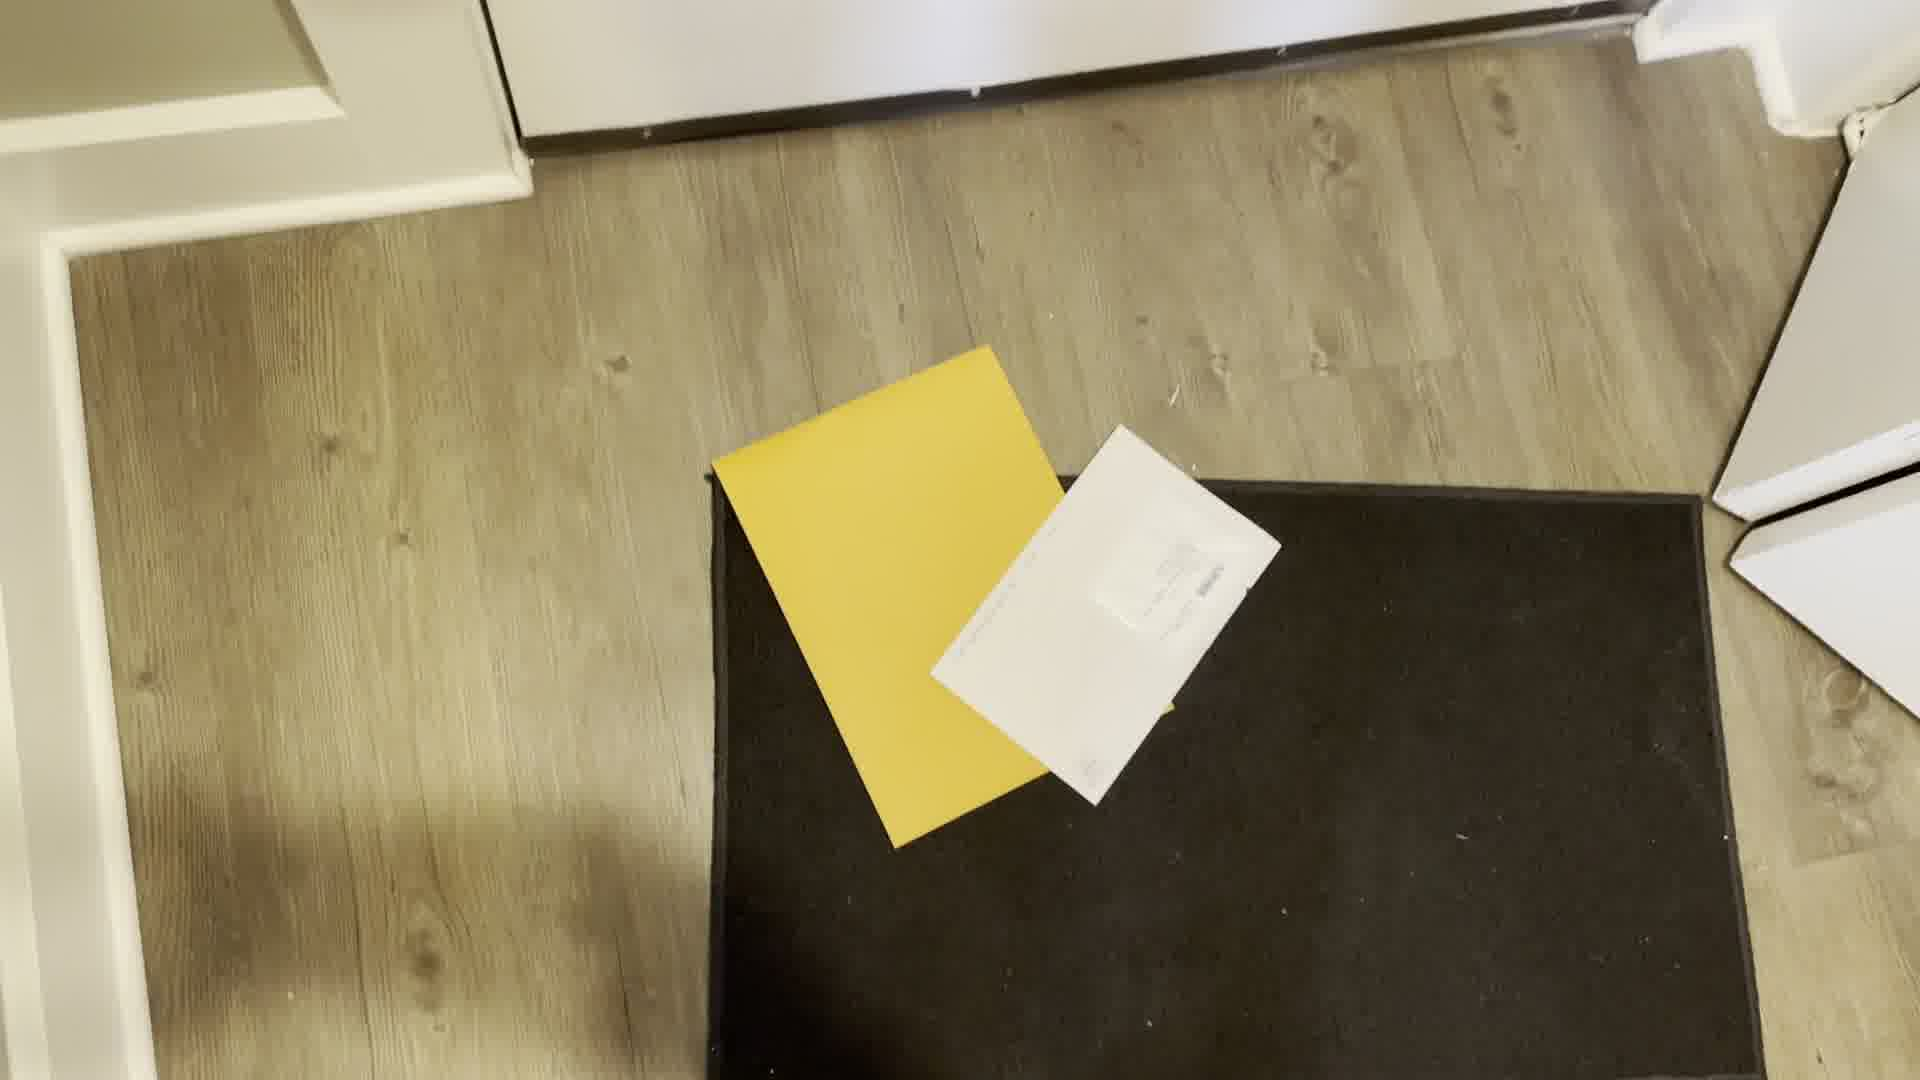envelope: (709, 332, 1076, 847), (923, 419, 1279, 815)
